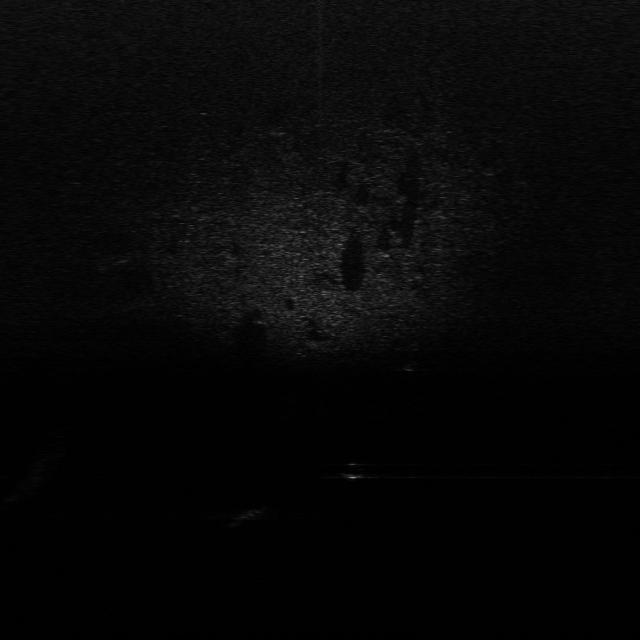ball: (334, 460, 370, 482)
square cage: (223, 505, 269, 527)
tyre: (396, 353, 418, 374)
